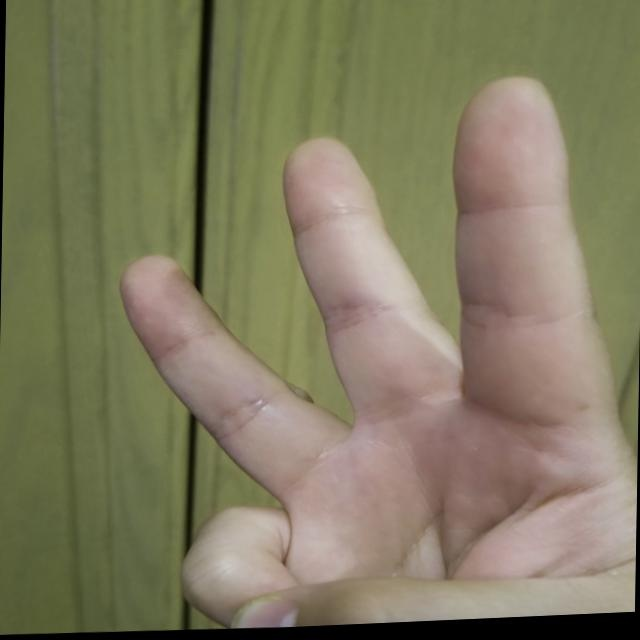W: (102, 62, 639, 635)
